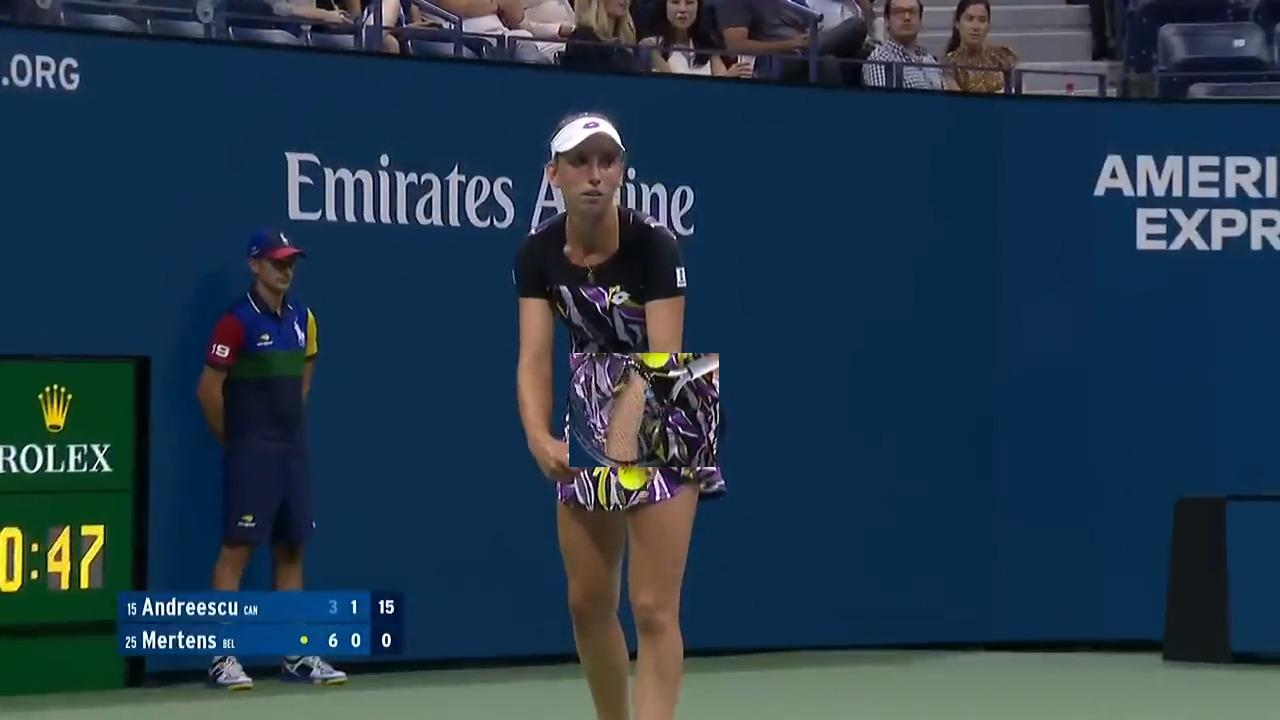tennis ball: (617, 451, 647, 491)
tennis racket: (569, 353, 719, 467)
